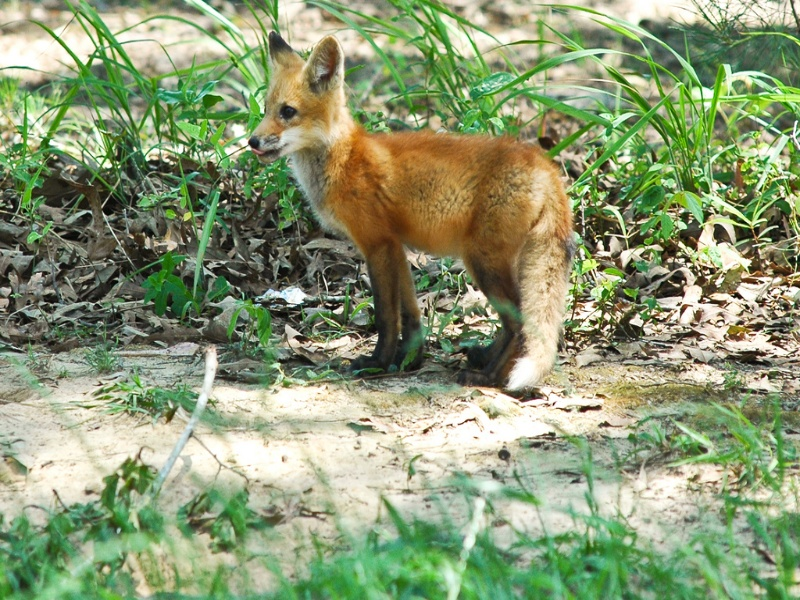fox: (245, 31, 578, 394)
